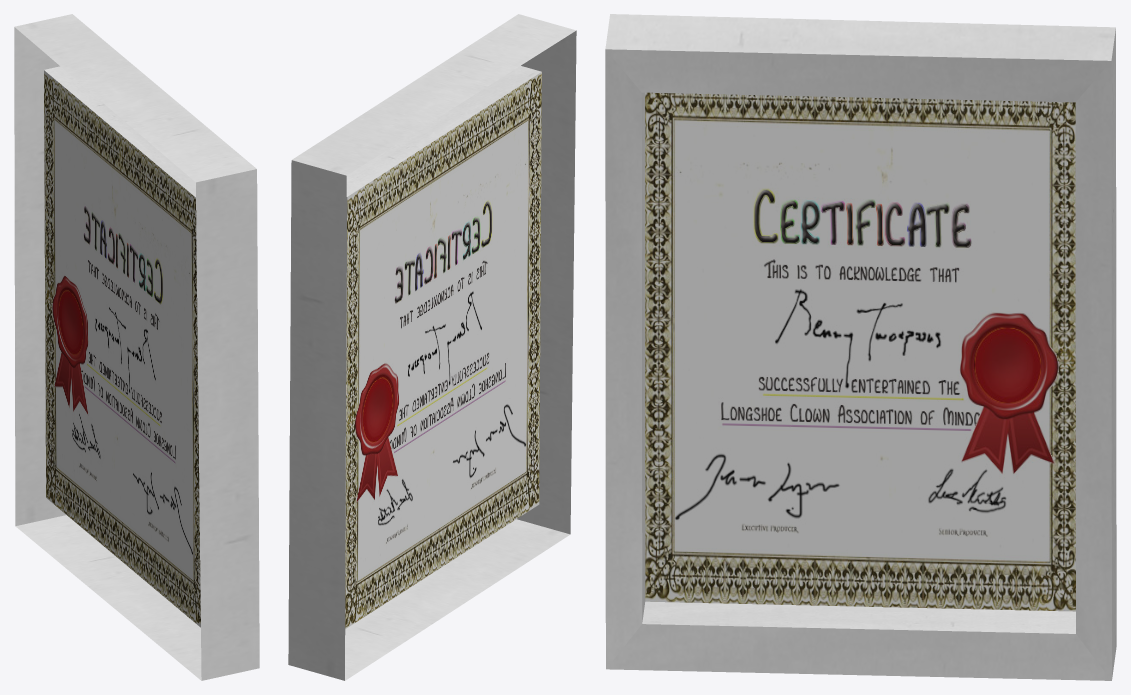
File: Certificate.fbx
The picture shows the model from 3 angles, left to right: view 1: azimuth 30°, elevation 25°; view 2: azimuth 150°, elevation 25°; view 3: azimuth 270°, elevation 25°; orthographic projection. The views are drawn at different scales.
Parts seen in each view (by area): view 1: Frame, Certificate1; view 2: Certificate1, Frame; view 3: Certificate1, Frame.
Boxes of the visible parts, left/top/right/bottom form: Frame: left=14, top=14, right=259, bottom=680; Certificate1: left=44, top=70, right=200, bottom=627; Certificate1: left=345, top=72, right=541, bottom=628; Frame: left=288, top=14, right=576, bottom=680; Certificate1: left=645, top=92, right=1075, bottom=611; Frame: left=605, top=14, right=1116, bottom=680.
Size of the model in its own units: 0.1605 by 0.9348 by 0.6994.
